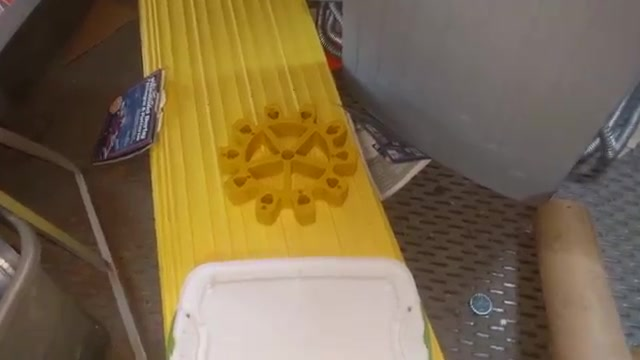gear: (209, 85, 375, 224)
